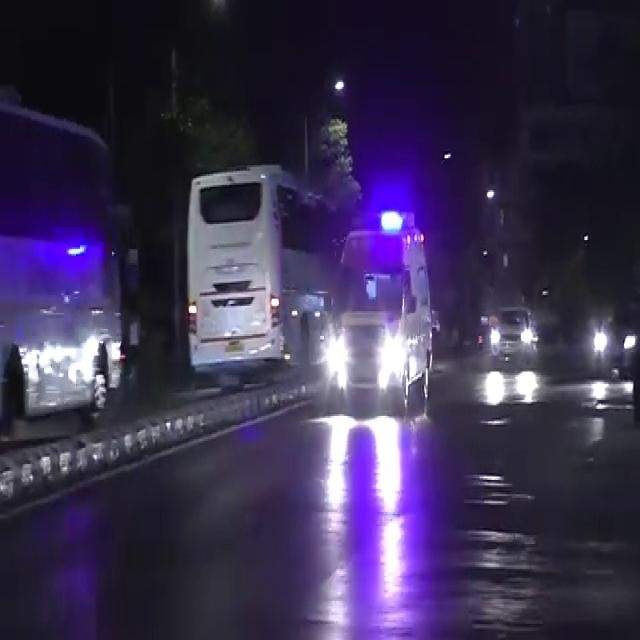ambulance: (323, 208, 438, 447)
